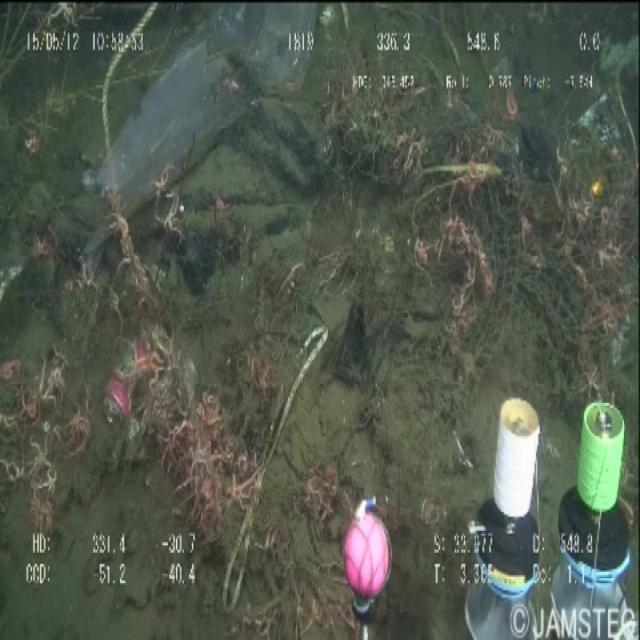Metal: (99, 320, 181, 440)
Plastic: (69, 2, 321, 262)
Rope: (339, 93, 636, 390), (97, 0, 162, 270)
